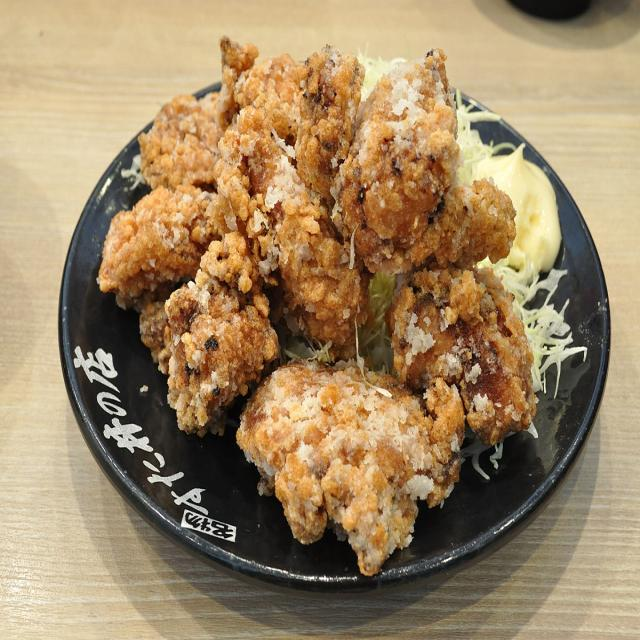Frango: (96, 28, 538, 580)
